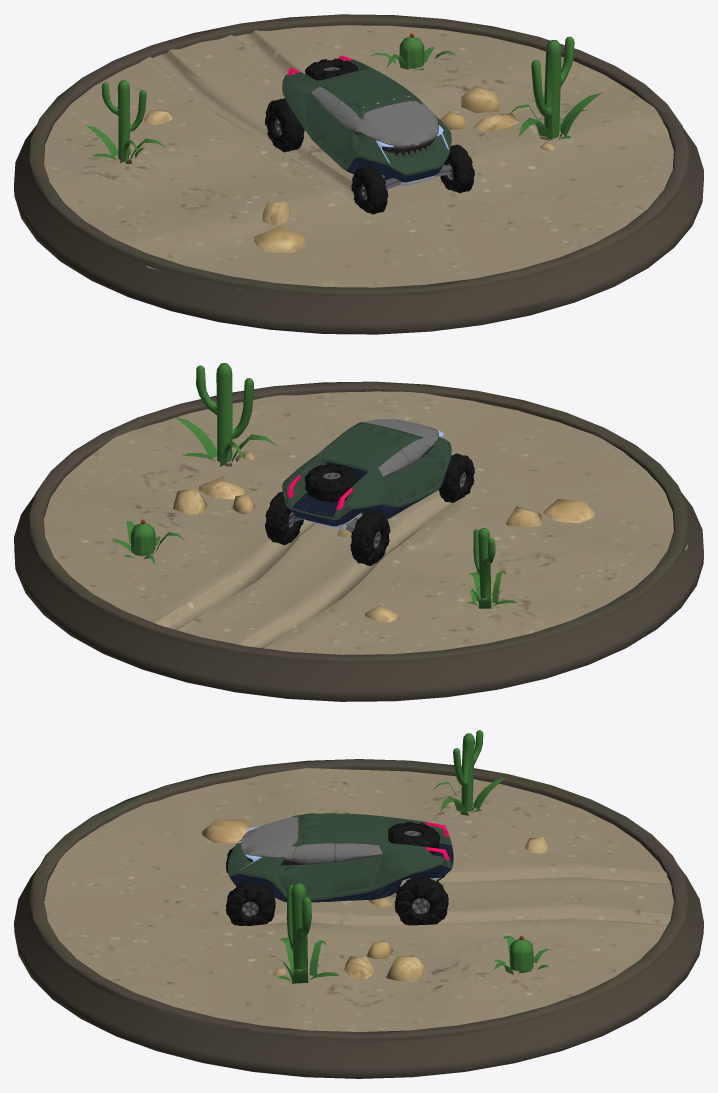
The model's file is buggy_lo.glb.
3 renders of one model, top to bottom at view 1: azimuth 30°, elevation 25°; view 2: azimuth 150°, elevation 25°; view 3: azimuth 270°, elevation 25°, orthographic.
Parts seen in each view (by area): view 1: defaultMaterial (×19); view 2: defaultMaterial (×18); view 3: defaultMaterial (×19).
Part boxes in pixels (x1,y1,x2,y2): defaultMaterial (×19): (14, 14, 703, 334); defaultMaterial (×18): (14, 363, 703, 701); defaultMaterial (×19): (14, 730, 703, 1078).
Size of the model in its own units: 2 by 0.4177 by 2.
3 materials, 3 textured.
